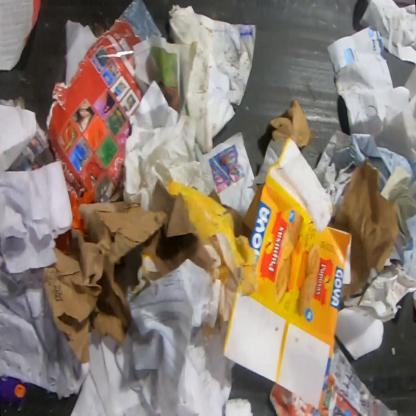cardboard: (220, 137, 353, 412), (42, 187, 167, 364), (126, 180, 263, 327), (118, 0, 164, 43), (0, 374, 30, 408)
